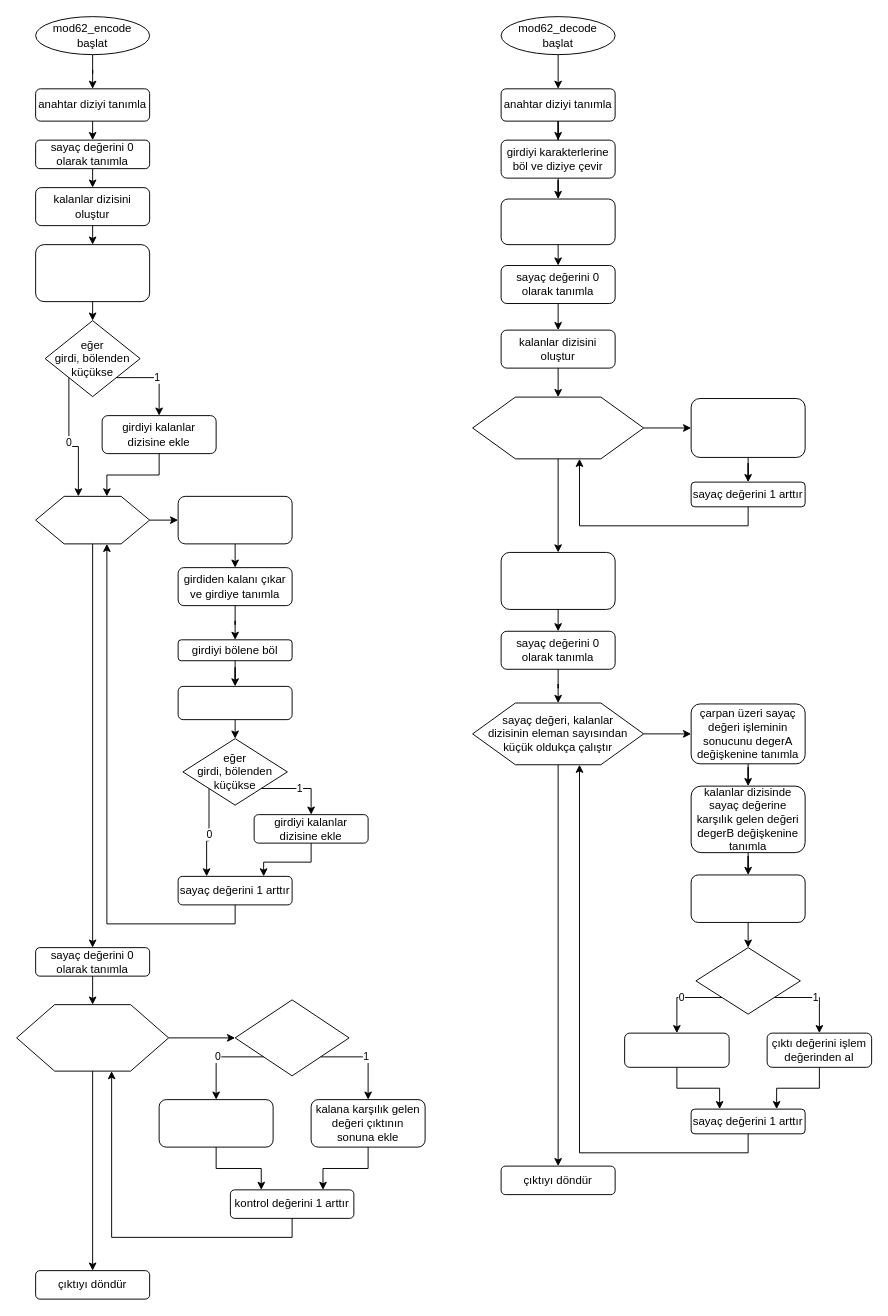
Image size: 888x1316. Some labels were removed from this diagram. The centre of each missing label's shape, as x and y in pixels:
"anahtar dizisi eleman sayısına 1 ekle ve bölen değişkenine tanımla" belongs at pixel 92 273.
"anahtar dizisinde girdiye karşılık gelen sonucu kalanlar dizisine ekle" belongs at pixel 747 427.
"anahtar dizisinin eleman sayısından 1 fazlasını çarpan değişkenine tanımla" belongs at pixel 557 580.
"anahtar dizisinin indis ve değerlerini yer değiştir" belongs at pixel 557 221.
"degerA ve degerB değerlerini çarp işlem değişkenine tanımla" belongs at pixel 747 898.
"eğer çıktı değeri tanımlı değilse" belongs at pixel 291 1037.
"eğer, çıktı değeri boşsa;" belongs at pixel 747 980.
"girdi, bölenden küçük oldukça çalıştır" belongs at pixel 92 519.
"girdinin bölene bölümünden kalanı kalana tanımla" belongs at pixel 234 519.
"kalana karşılık gelen sonucu çıktının sonuna ekle" belongs at pixel 215 1123.
"kalanı kalanlar dizisine ekle" belongs at pixel 234 702.
"saya. değeri kalanlar dizisinin eleman sayısından küçük oldukça çalıştır" belongs at pixel 92 1037.
"sayaç değeri, girdi dizisinin eleman sayısından küçük oldukça çalıştır" belongs at pixel 558 427.
"çıktı değerine işlem değerini ekle" belongs at pixel 676 1049.
